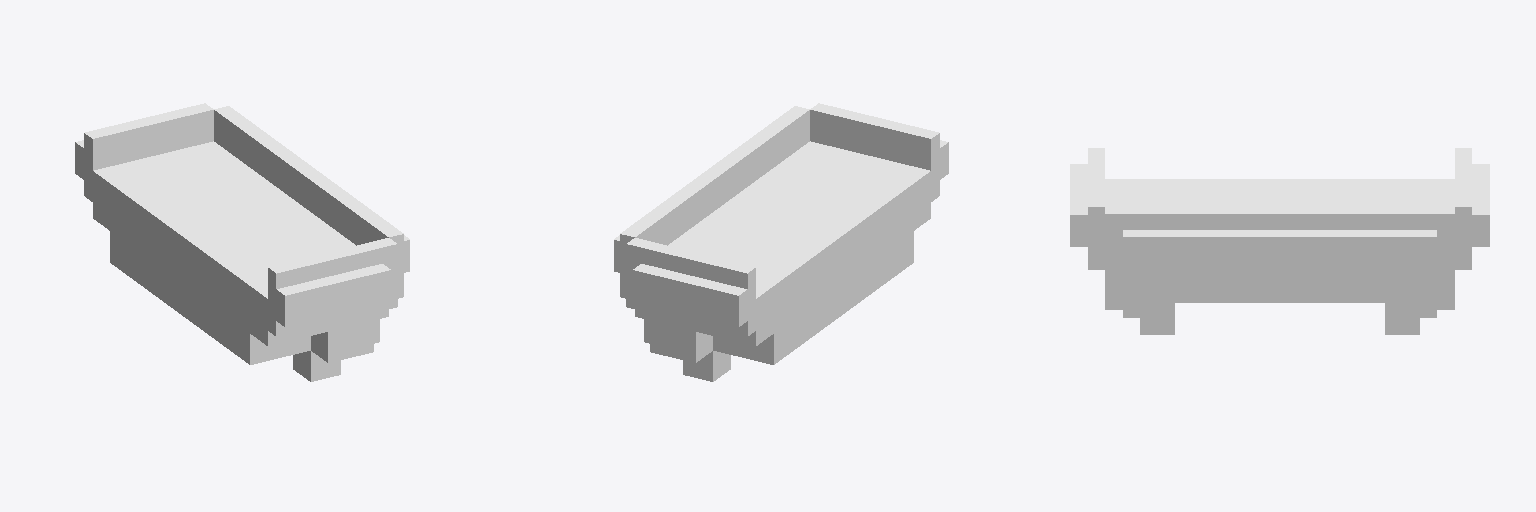
Rendered from StackBack.obj.
3 views of the same model, side by side, from view 1: azimuth 30°, elevation 25°; view 2: azimuth 150°, elevation 25°; view 3: azimuth 270°, elevation 25° (orthographic).
Size of the model in its own units: 10 by 9 by 24.